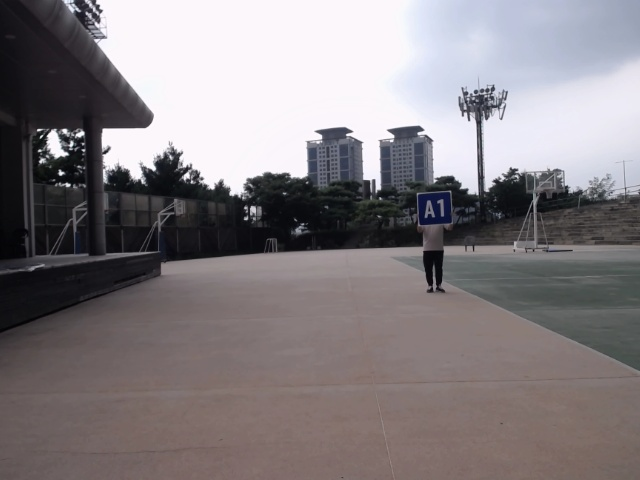delivery_a1: (417, 192, 452, 226)
